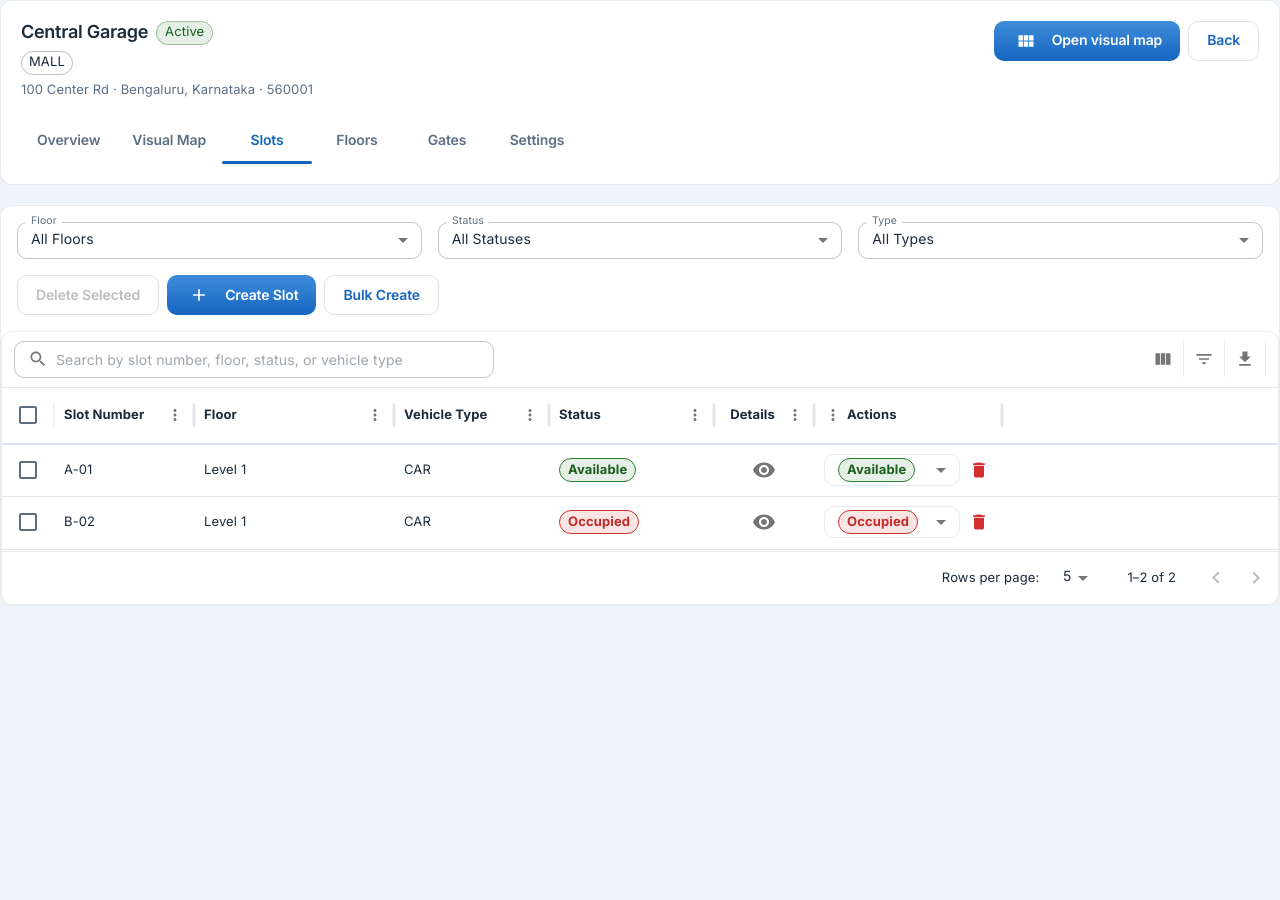
Scenario: ParkingLotDetailsPage › filters slots and bulk deletes selected slots
Expected: the text "A-01" is shown, x1=64 y1=462 x2=92 y2=478
Type "B-02" into the field with placeholder "Search by slot number, floor, status, or vehicle type" at point(275, 359), box x1=56 y1=341 x2=494 y2=378
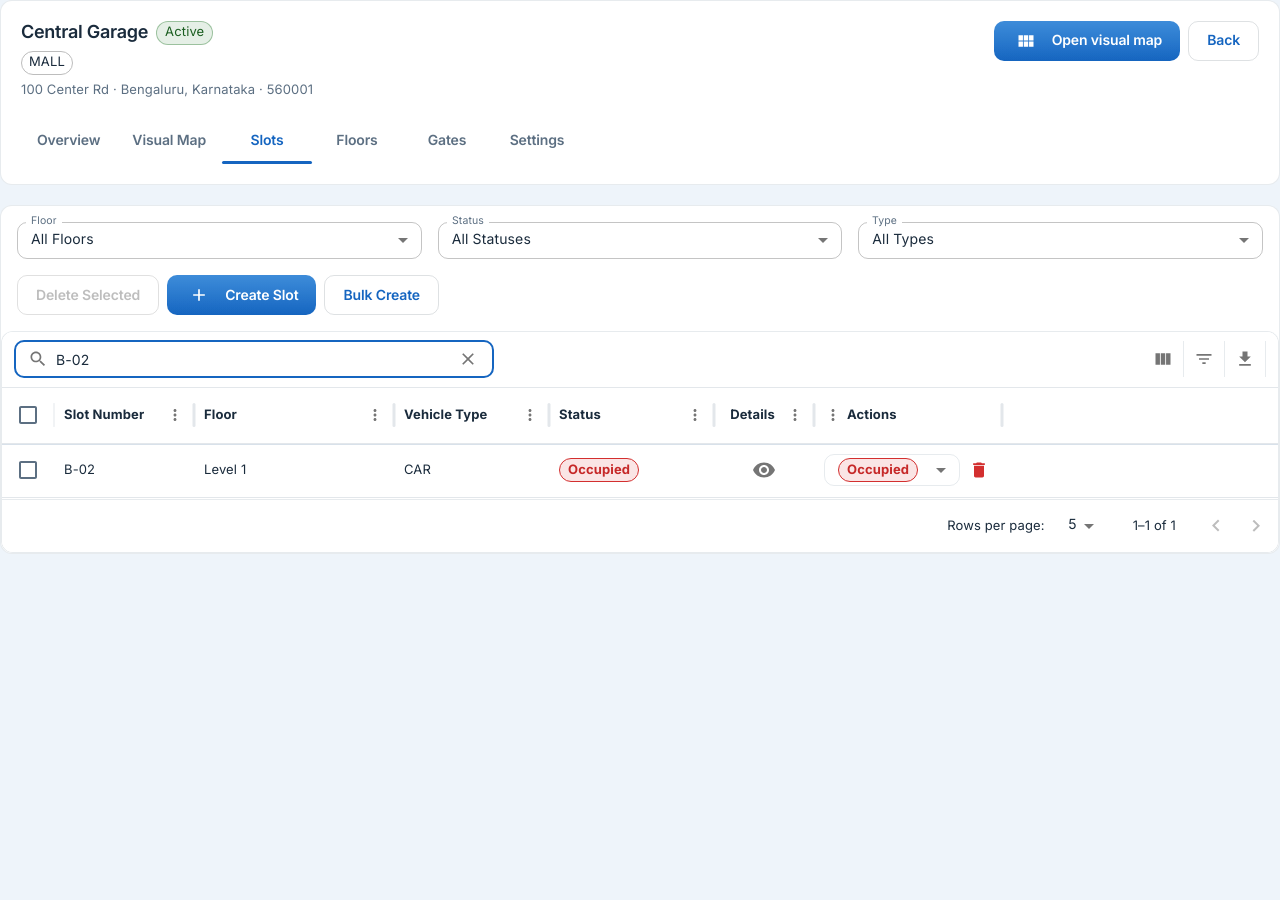
Expected: the text "B-02" is shown, x1=64 y1=462 x2=95 y2=478
Expected: the text "A-01" is gone
Click the checkbox named "Select row" at point(28, 470), box x1=16 y1=458 x2=40 y2=482
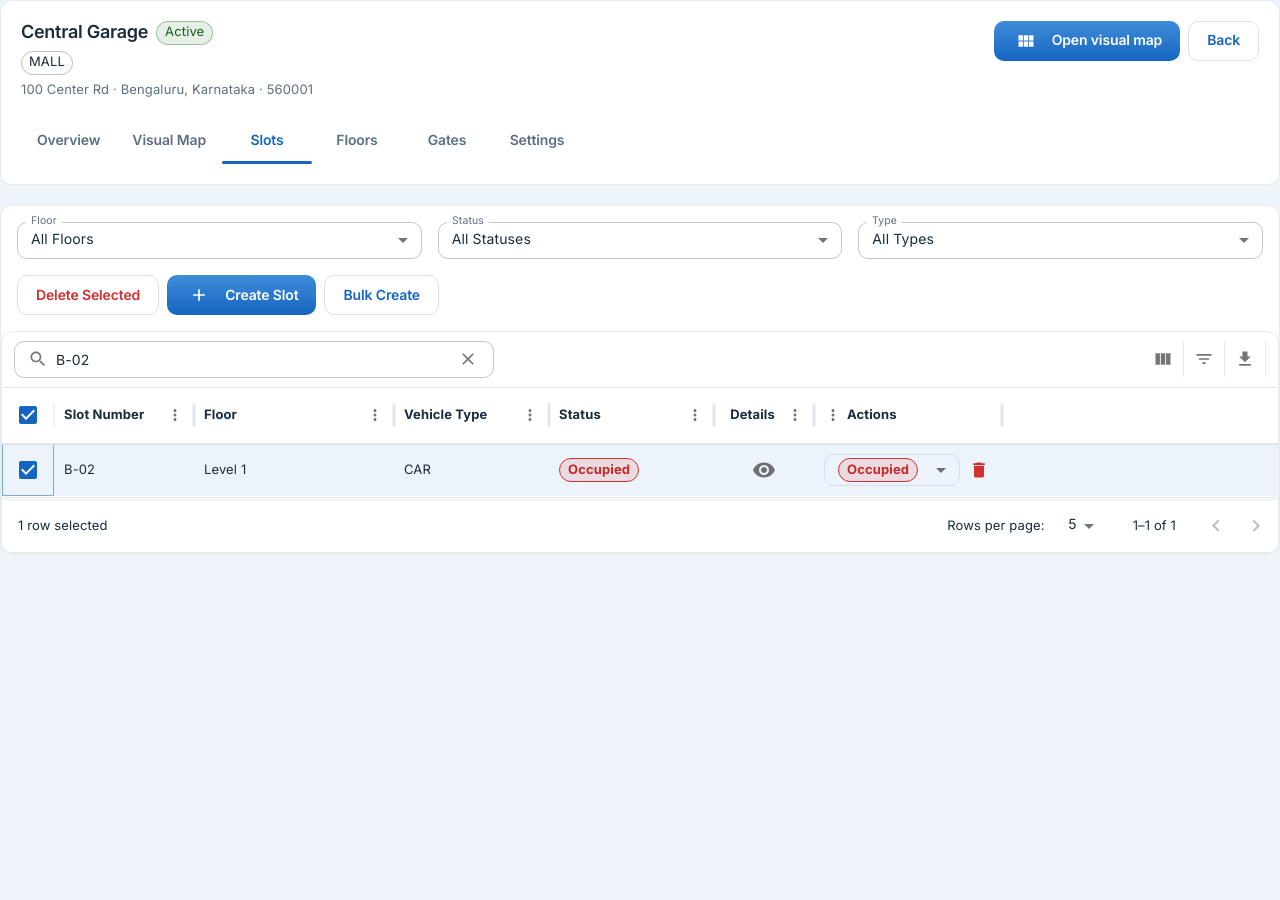
Click the button "Delete Selected" at point(88, 295), box x1=17 y1=275 x2=159 y2=315
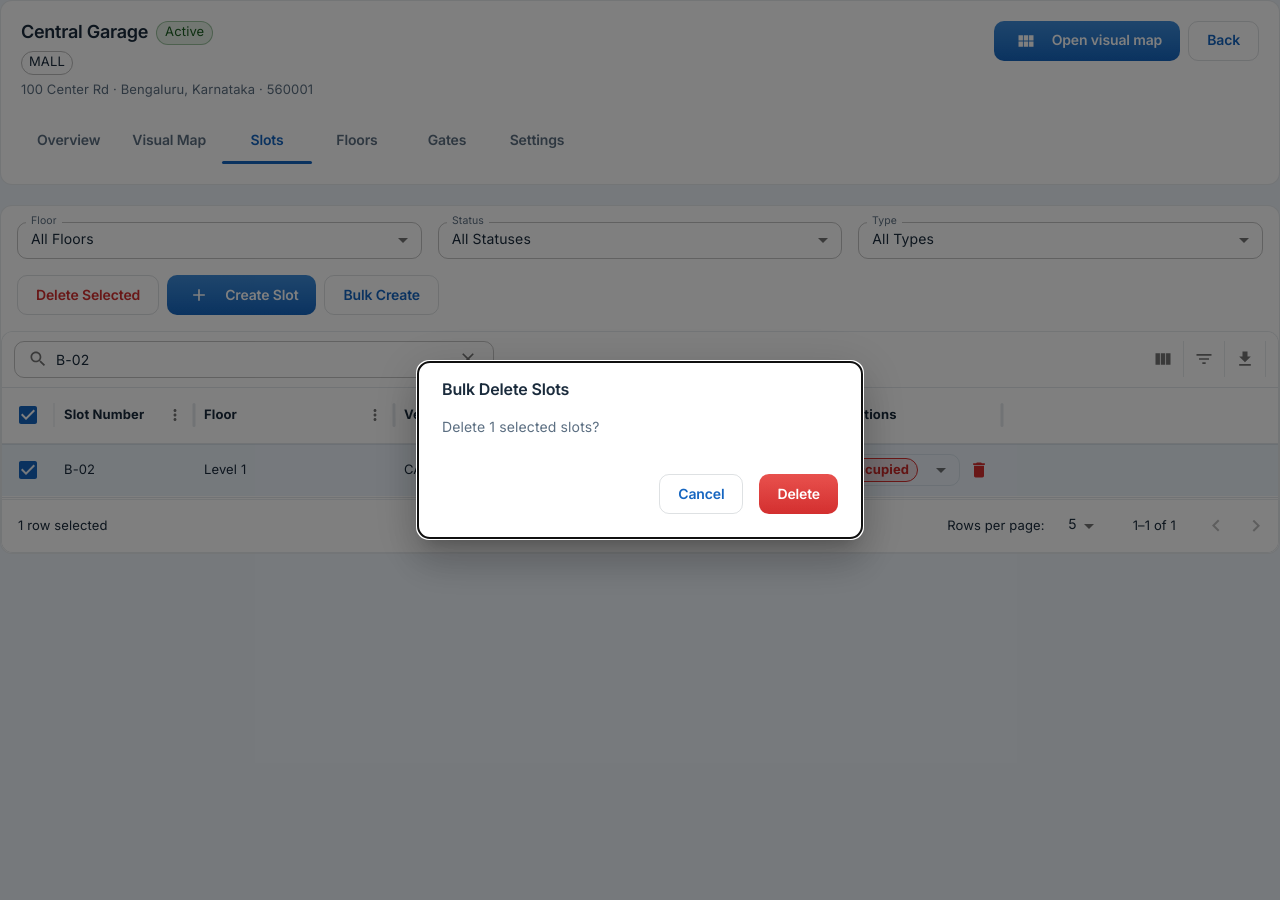
Click the button "Delete" at point(799, 494), box x1=759 y1=474 x2=838 y2=514
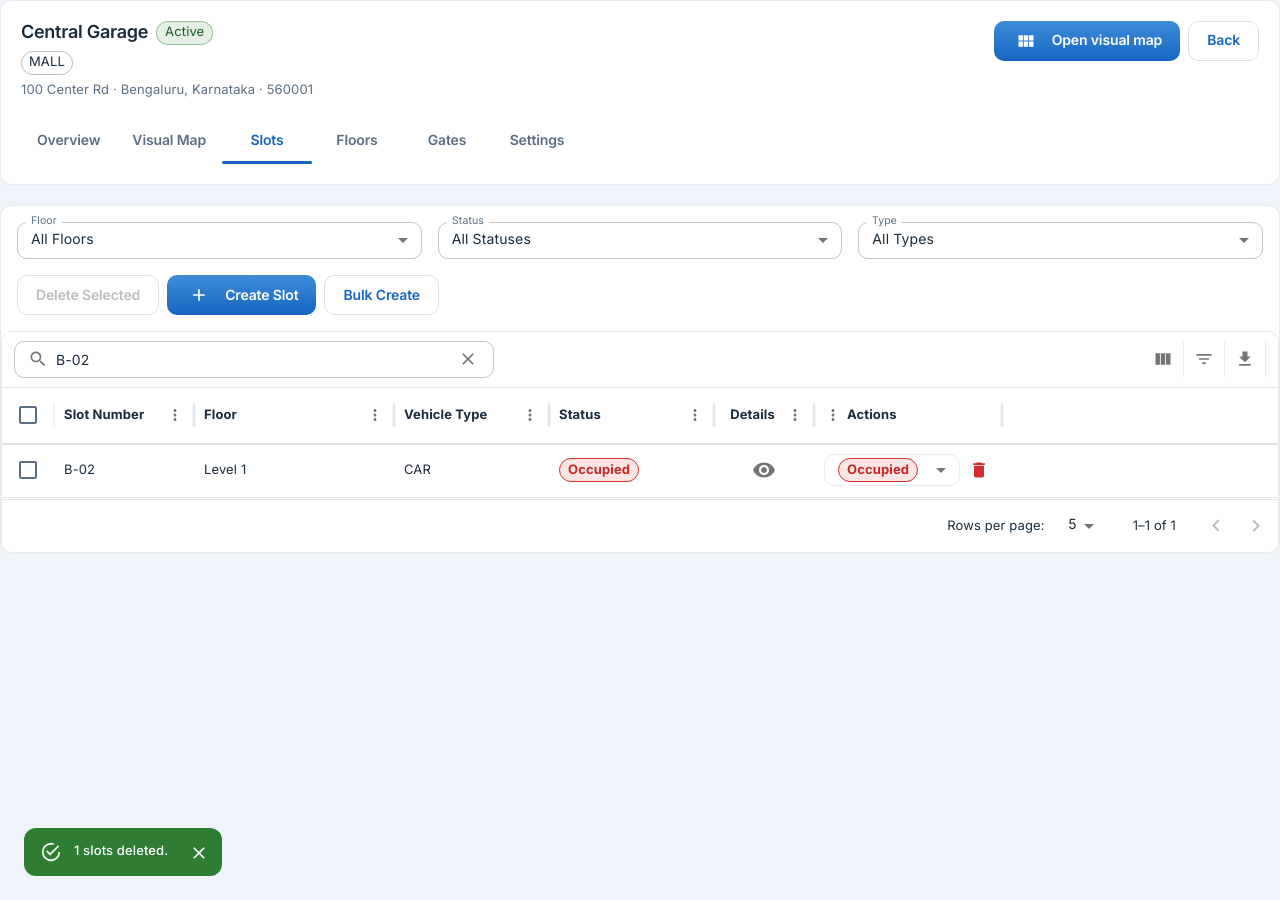
Expected: the text "1 slots deleted." is shown, x1=74 y1=843 x2=168 y2=859
